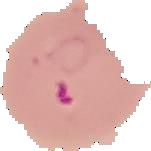parasitized: (33, 32, 96, 110)
